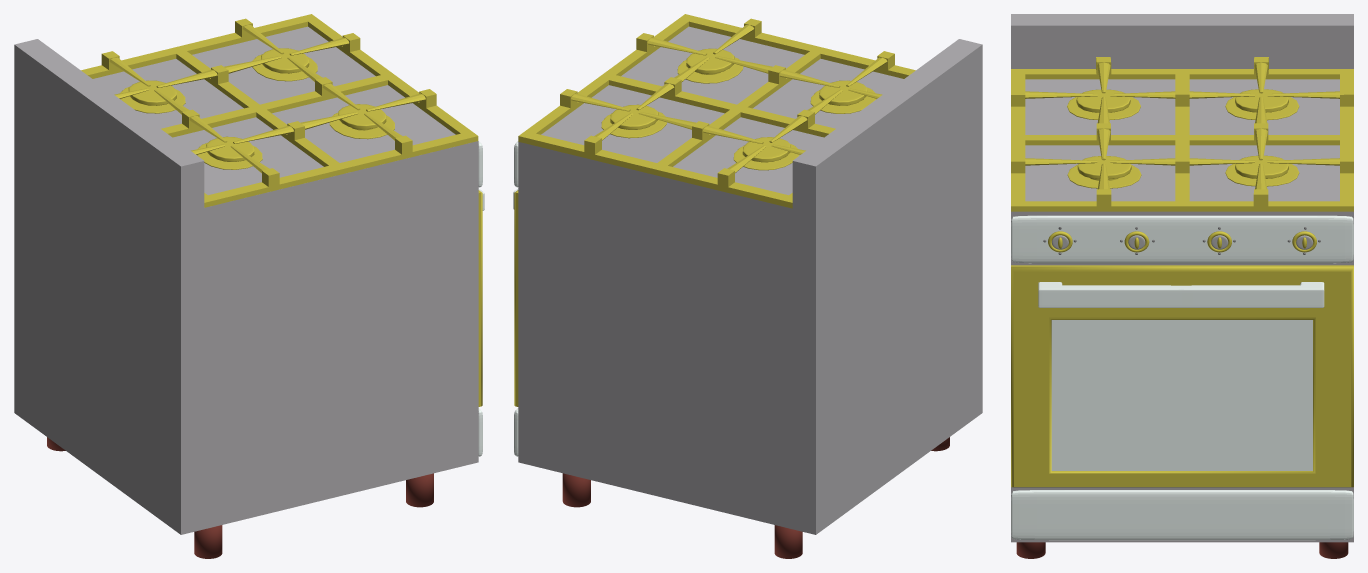
The model's file is estufa2.fbx.
3 renders of one model, left to right at view 1: azimuth 30°, elevation 25°; view 2: azimuth 150°, elevation 25°; view 3: azimuth 270°, elevation 25°, orthographic. The views are drawn at different scales.
Parts seen in each view (by area): view 1: estufa2; view 2: estufa2; view 3: estufa2.
Part boxes in pixels (left/top/right/bottom): estufa2: left=14, top=14, right=484, bottom=558; estufa2: left=513, top=14, right=982, bottom=558; estufa2: left=1011, top=14, right=1353, bottom=558.
Size of the model in its own units: 127 by 154 by 116.
